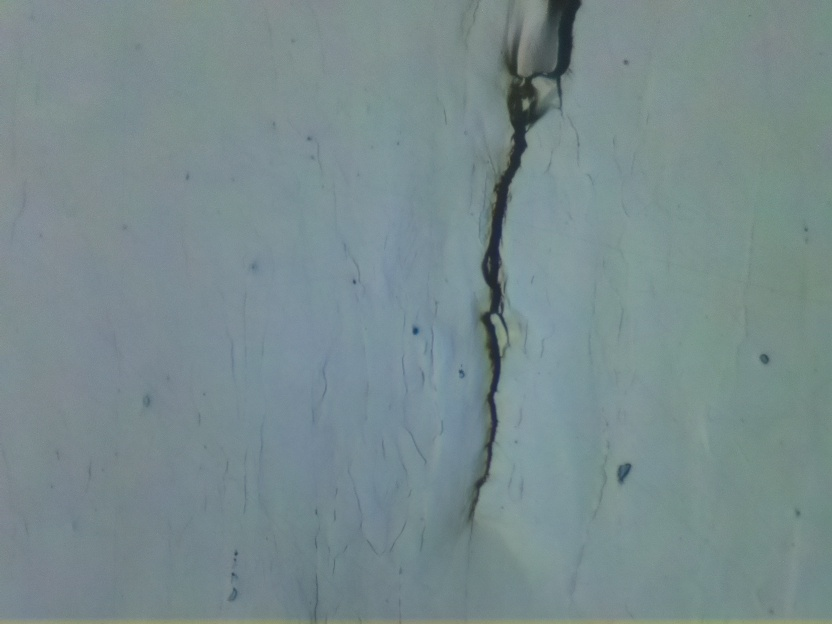crack: (466, 0, 582, 518)
